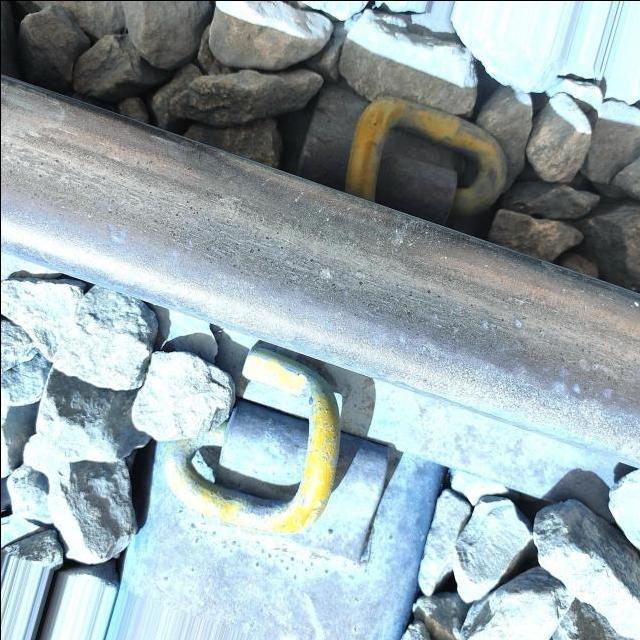broken_rail_medium: (553, 364, 581, 400), (107, 221, 129, 247), (316, 263, 332, 285), (513, 313, 523, 329), (393, 228, 403, 244), (602, 385, 613, 399), (481, 317, 491, 329)
